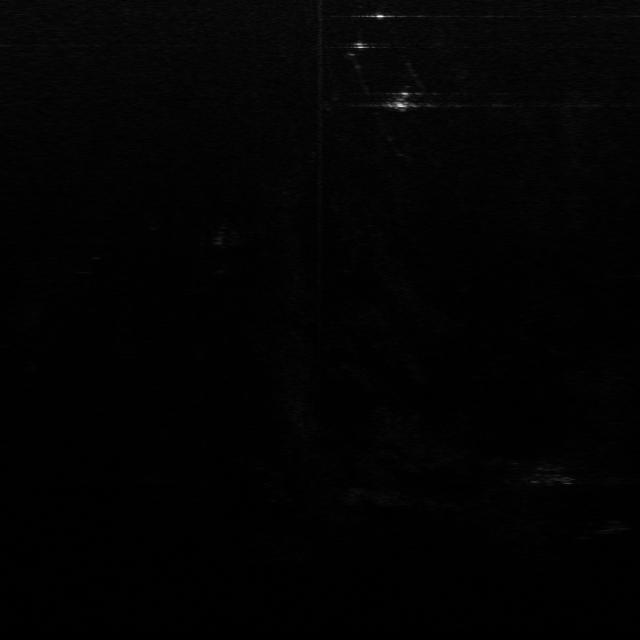rov: (387, 87, 422, 111)
